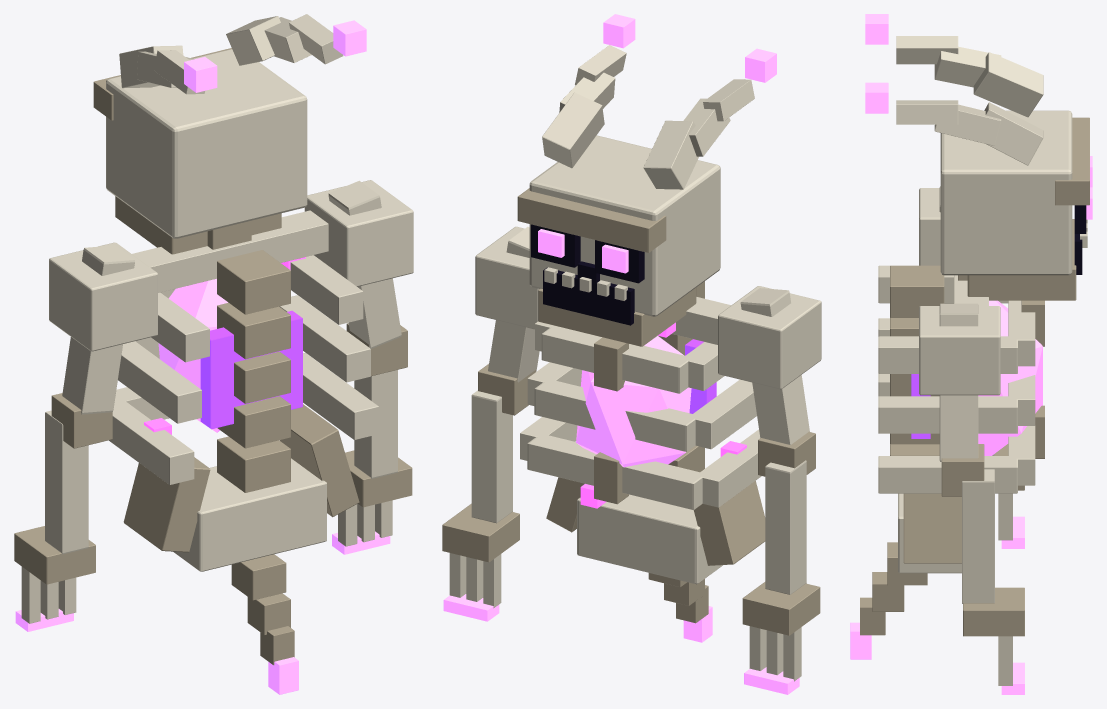
File: cosmic-skeleton-boss.glb
3 views of the same model, side by side, from view 1: azimuth 30°, elevation 25°; view 2: azimuth 150°, elevation 25°; view 3: azimuth 270°, elevation 25° (orthographic). The views are drawn at different scales.
Visible parts, largest first — view 1: body, head, arm.R, arm.L, tail, ear.L, ear.R; view 2: body, head, arm.R, arm.L, ear.R, ear.L, tail; view 3: body, head, arm.L, ear.R, ear.L, tail, arm.R.
Boxes of the visible parts, <box> form: body: <box>49,180,413,571</box>; head: <box>93,48,307,254</box>; arm.R: <box>14,245,134,631</box>; arm.L: <box>328,180,412,554</box>; tail: <box>231,554,298,694</box>; ear.L: <box>226,14,366,65</box>; ear.R: <box>119,45,217,94</box>; body: <box>475,226,821,584</box>; head: <box>517,135,720,346</box>; arm.R: <box>740,288,820,694</box>; arm.L: <box>442,226,539,621</box>; ear.R: <box>643,48,776,189</box>; ear.L: <box>542,14,635,168</box>; tail: <box>648,573,712,642</box>; body: <box>878,188,1044,573</box>; head: <box>940,110,1092,300</box>; arm.L: <box>939,303,1024,694</box>; ear.R: <box>865,14,1043,117</box>; ear.L: <box>865,82,1043,165</box>; tail: <box>850,542,927,659</box>; arm.R: <box>939,186,1024,548</box>.
Size of the model in its own units: 0.5733 by 0.9532 by 0.3475.
